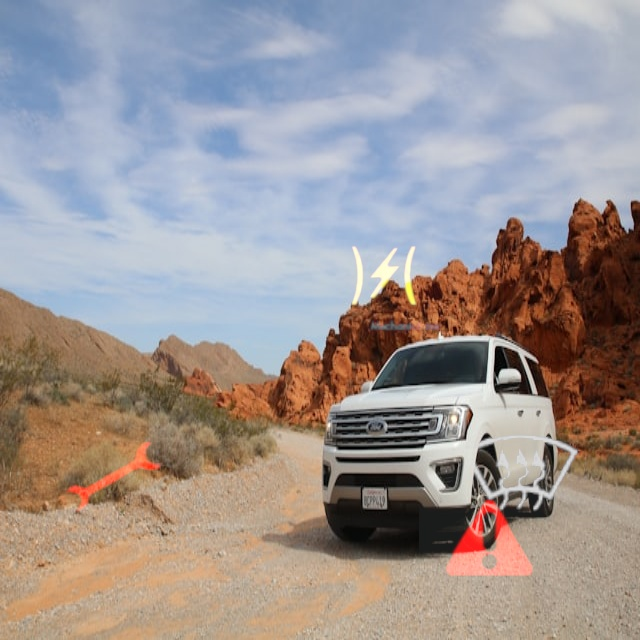symbol: (429, 381, 615, 567), (39, 402, 191, 554), (419, 469, 559, 609), (324, 216, 444, 336)
